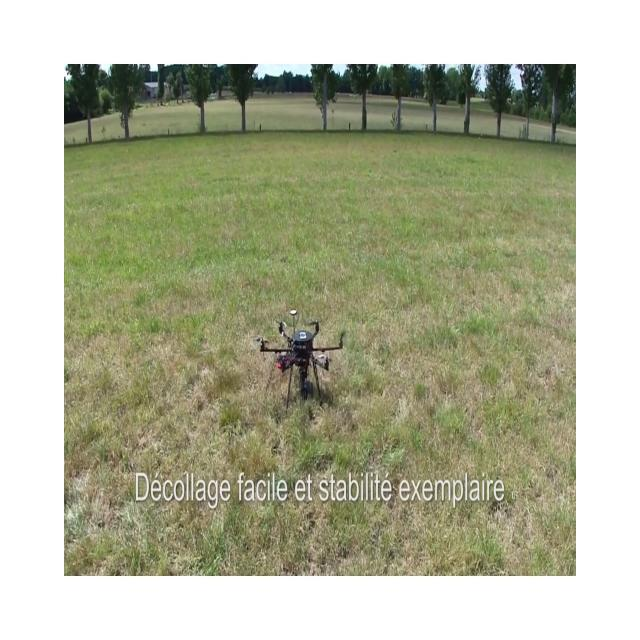drone: (254, 307, 344, 412)
